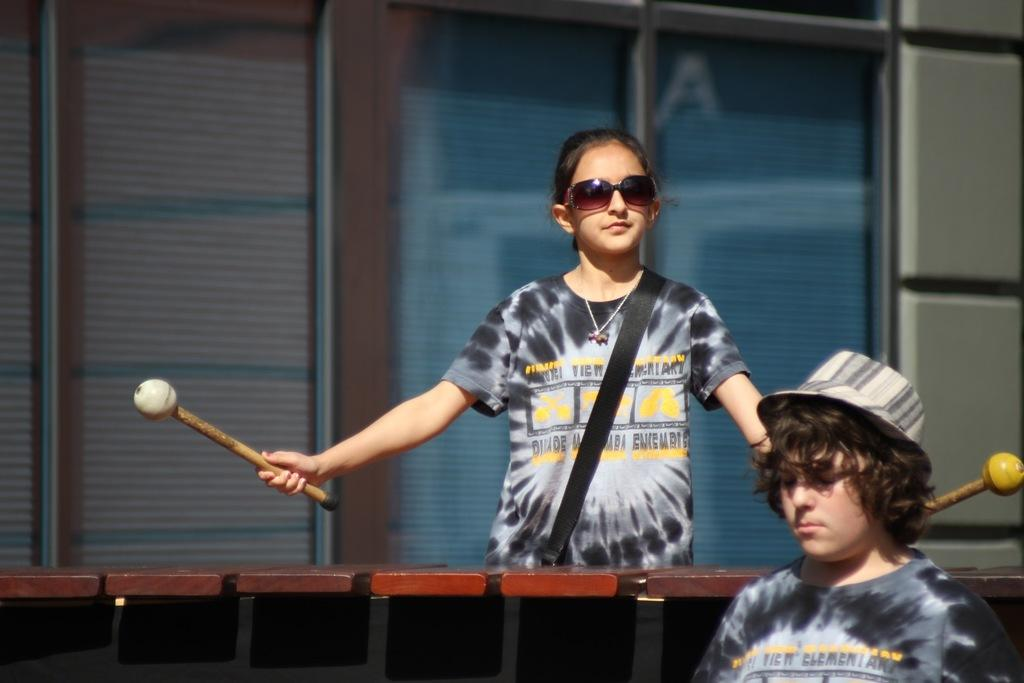Hat: (755, 350, 925, 447)
